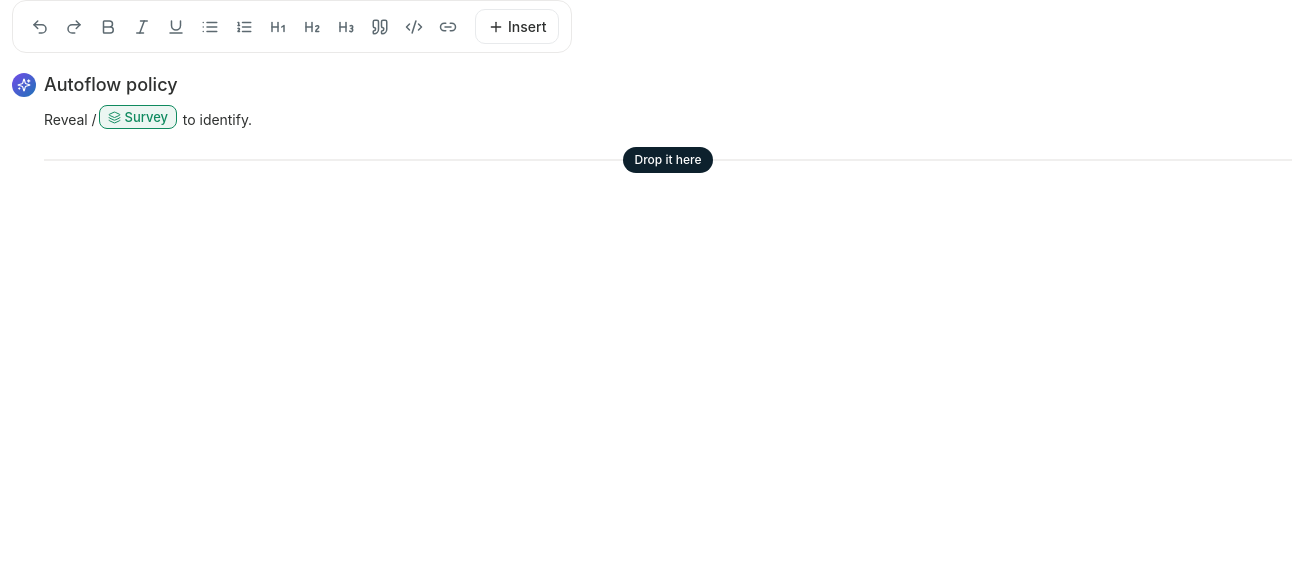
PolicyEditor — slash menu › inserts the chosen chip in place of the slash, splitting the prose around it
Clear the text box with test id "policy-prose-p1": (70, 119) x1=44 y1=110 x2=97 y2=128
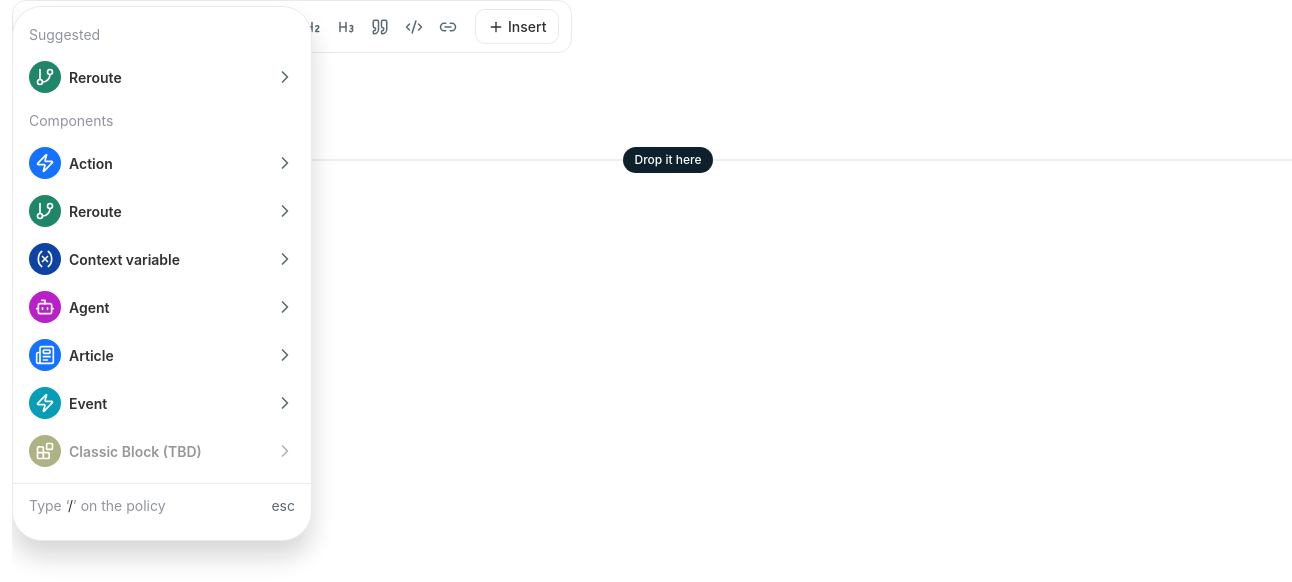
Click the menu item "Action": (45, 163) x1=13 y1=141 x2=311 y2=185
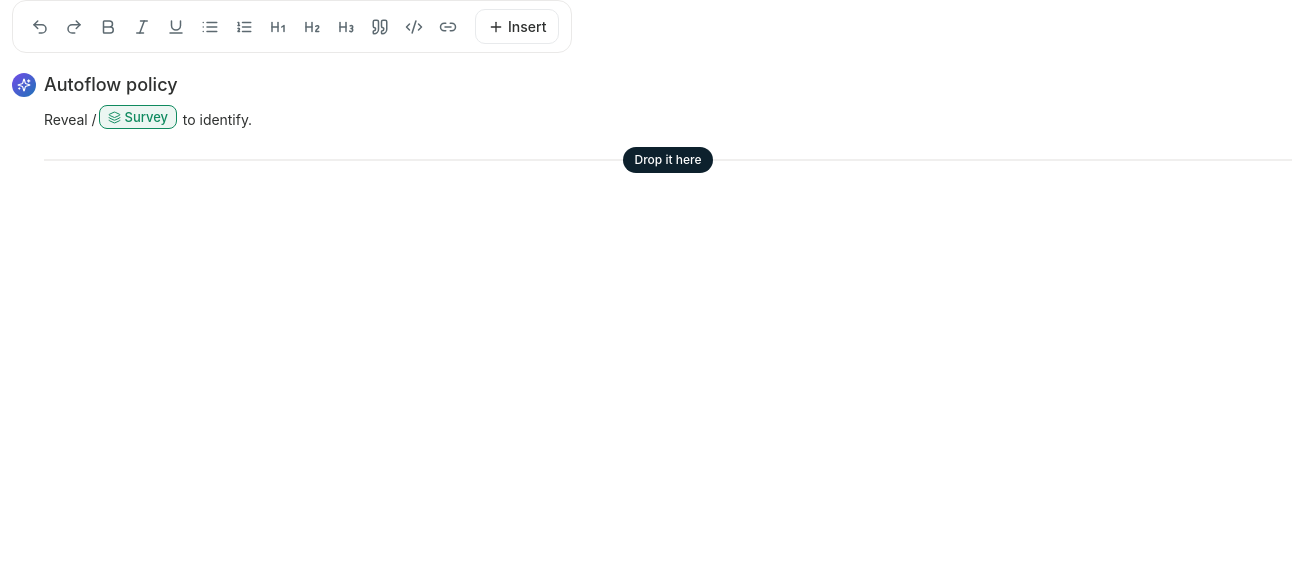
expect the menu is gone: met
